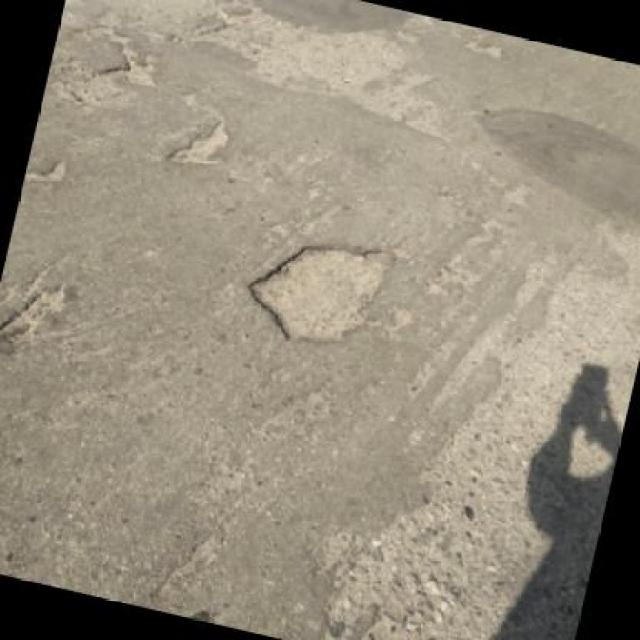pothole1: (236, 215, 404, 362), (0, 269, 72, 352), (164, 109, 236, 178), (98, 43, 167, 95)
